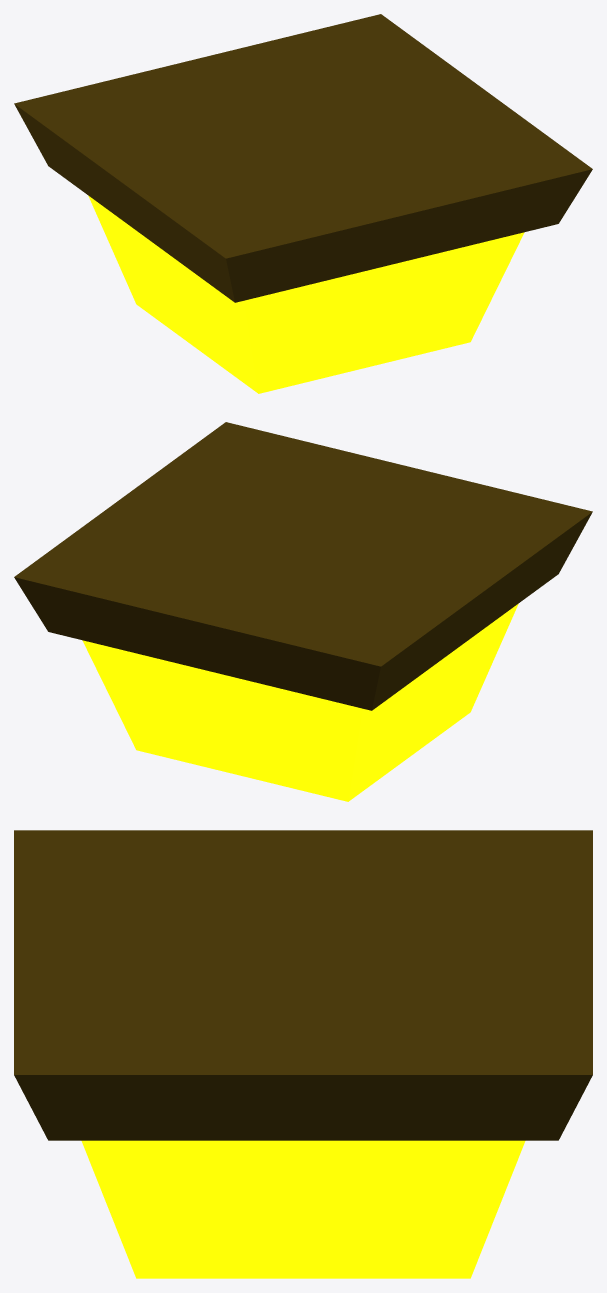
The model's file is light_manshion_top.fbx.
The picture shows the model from 3 angles, top to bottom: view 1: azimuth 30°, elevation 25°; view 2: azimuth 150°, elevation 25°; view 3: azimuth 270°, elevation 25°; orthographic projection. The views are drawn at different scales.
Parts seen in each view (by area): view 1: Cube; view 2: Cube; view 3: Cube.
Part boxes in pixels (x1,y1,x2,y2): Cube: (14,14,592,393); Cube: (14,422,592,801); Cube: (14,830,592,1278).
Bounding box in the file's own units: 282 × 137 × 282.
